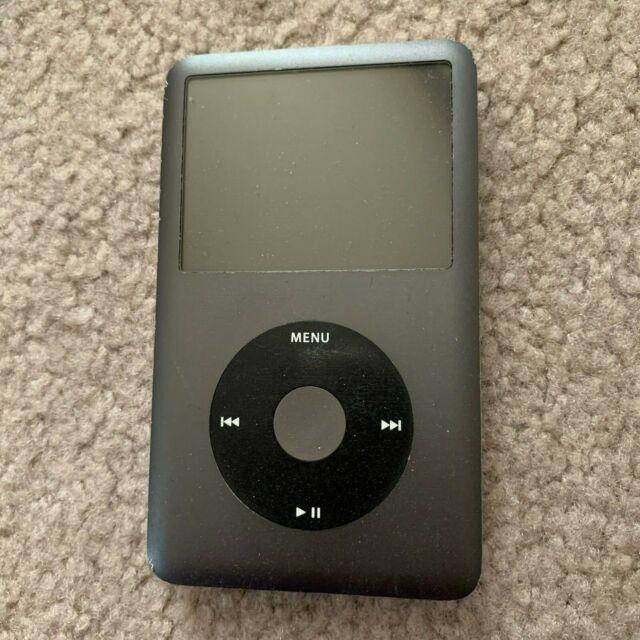Music-Player: (132, 24, 498, 606)
